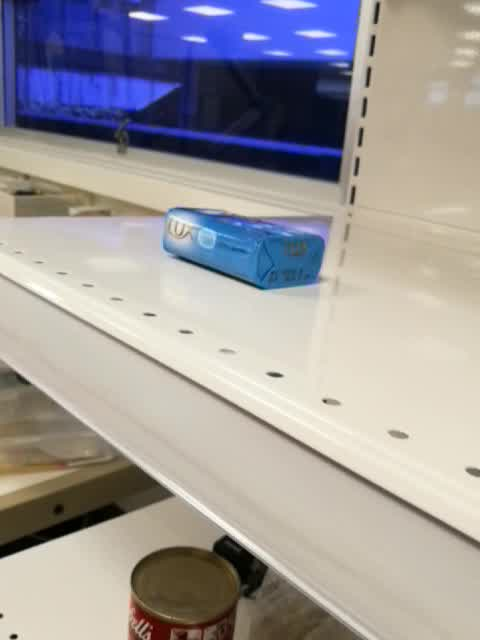soap: (162, 205, 327, 291)
